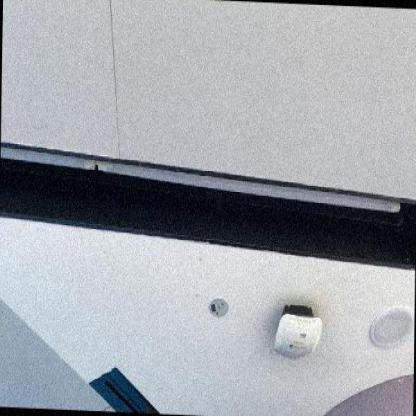light_off: (1, 80, 408, 260)
